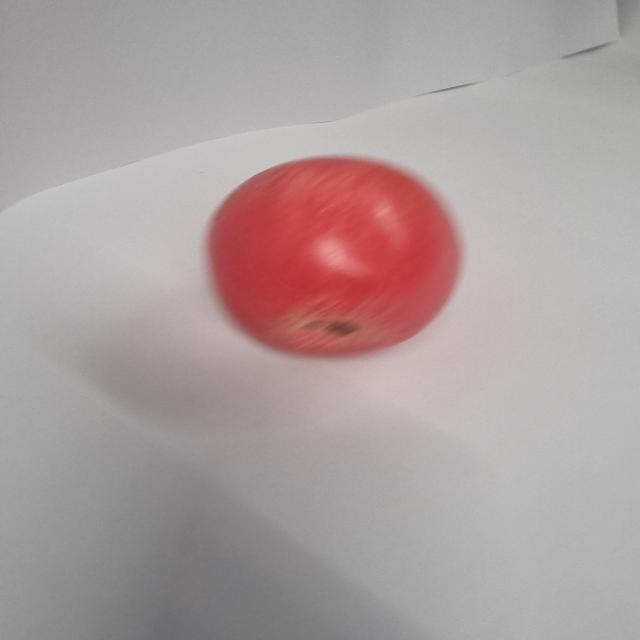apple: (207, 156, 462, 355)
